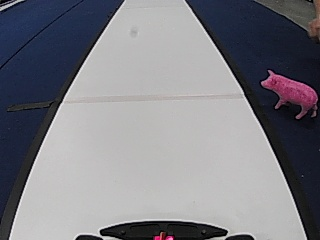pig: (260, 69, 318, 120)
